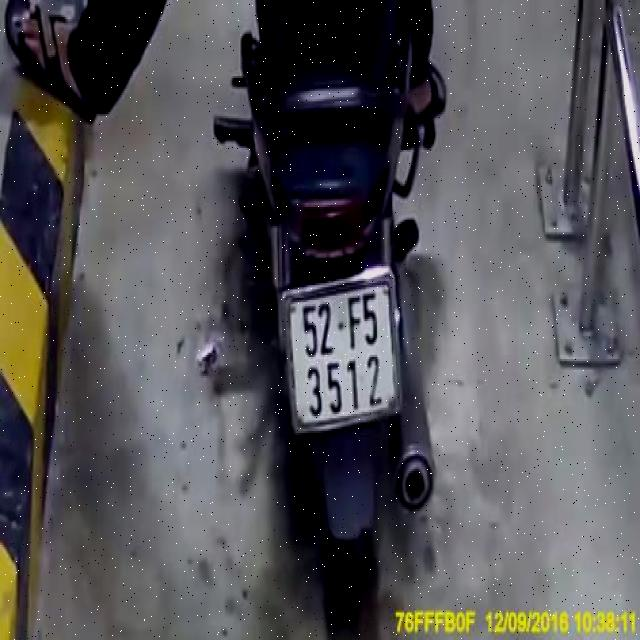2: (320, 302, 334, 356)
5: (361, 291, 382, 345), (304, 367, 324, 419), (301, 302, 318, 357)
F: (346, 293, 364, 351)
